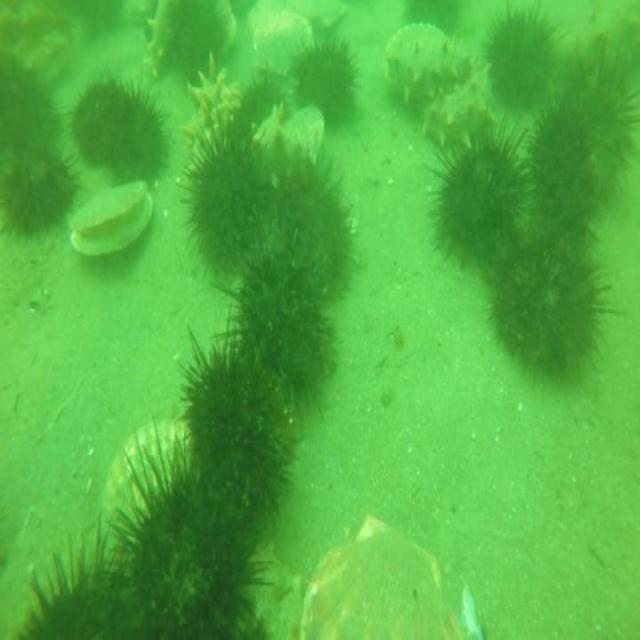echinus: (119, 439, 269, 637), (224, 223, 343, 419), (492, 212, 620, 392), (172, 319, 292, 509), (5, 521, 166, 640), (250, 152, 354, 298), (183, 114, 271, 281), (428, 124, 529, 268), (564, 38, 640, 183), (520, 109, 604, 235), (482, 0, 558, 126), (0, 134, 80, 239), (100, 84, 174, 196), (162, 0, 231, 90), (66, 73, 124, 177), (294, 32, 362, 117), (228, 68, 282, 141)
holothurian: (185, 49, 242, 171), (384, 30, 472, 109), (419, 71, 481, 152), (143, 0, 174, 76)
scallop: (300, 505, 479, 640), (106, 409, 198, 534), (68, 178, 154, 266), (250, 5, 316, 74), (274, 101, 329, 180), (290, 0, 352, 32)
